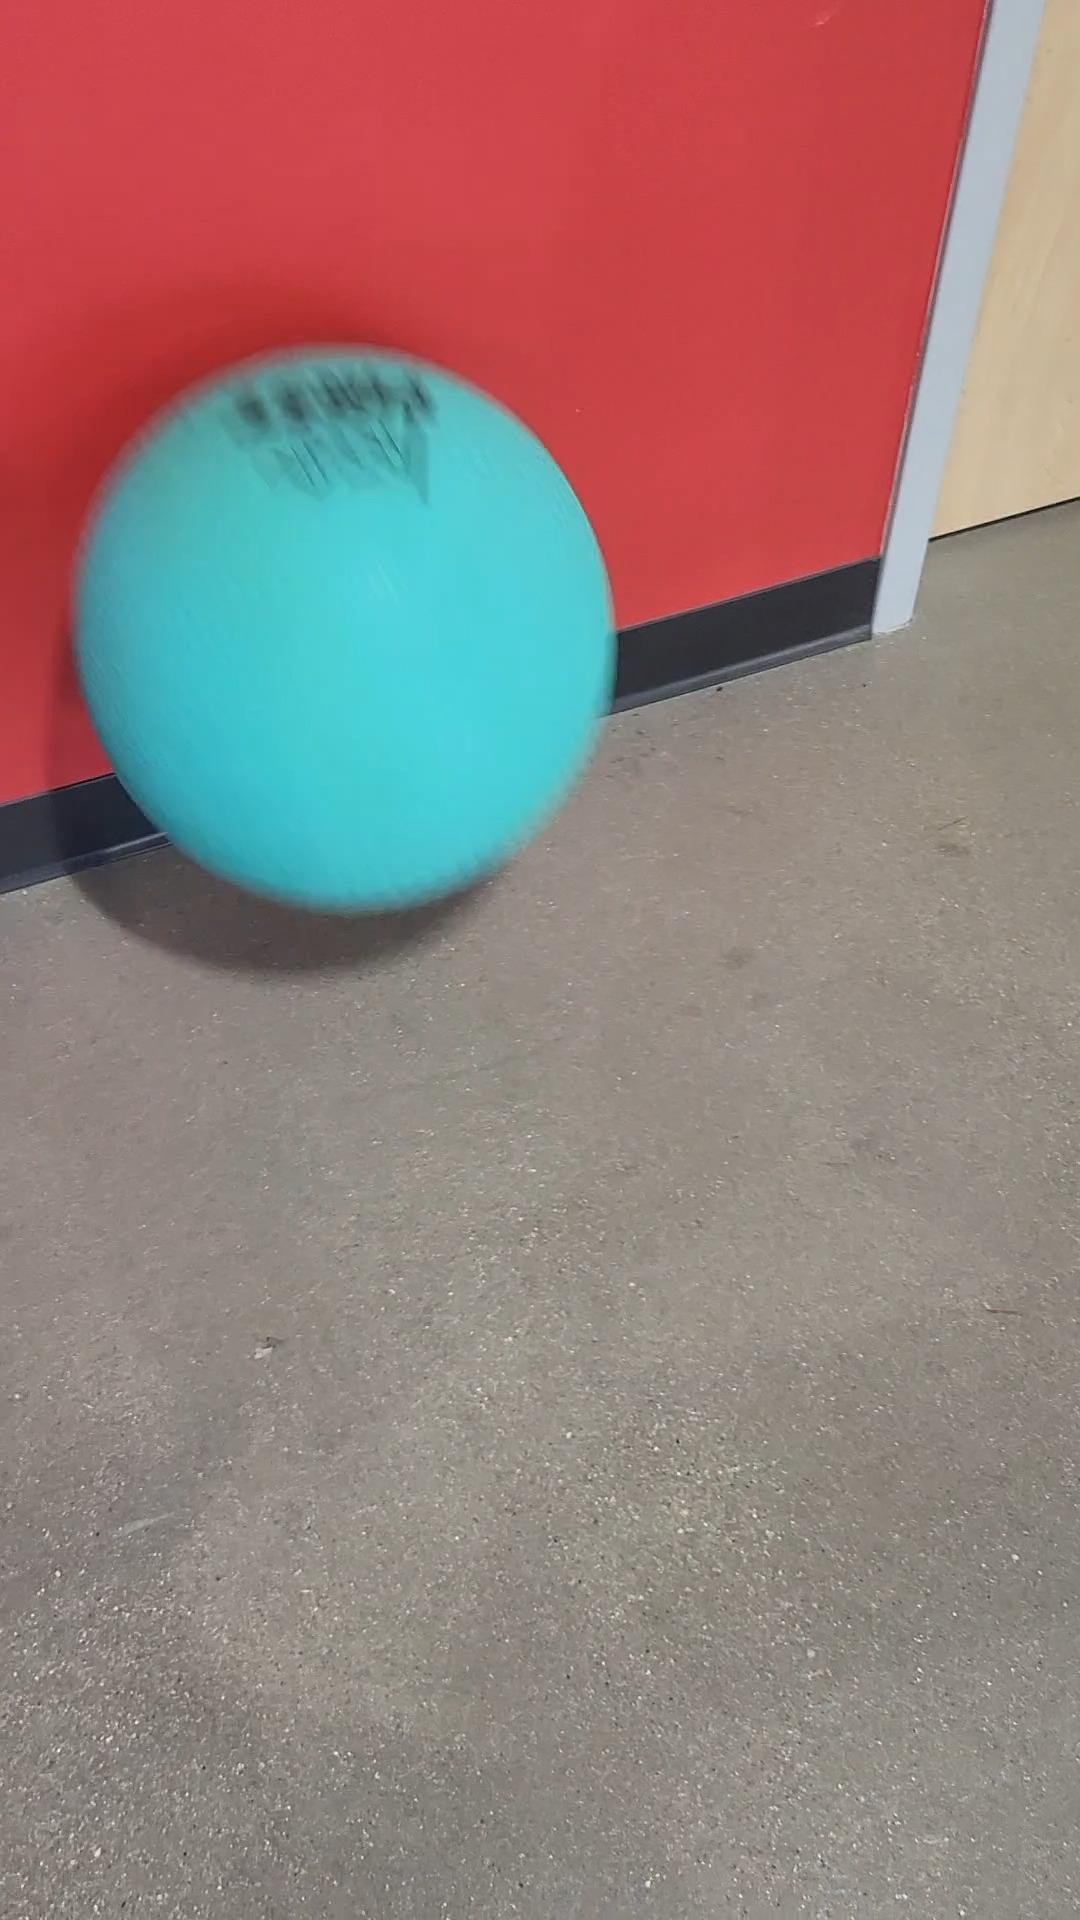algae: (86, 345, 611, 909)
